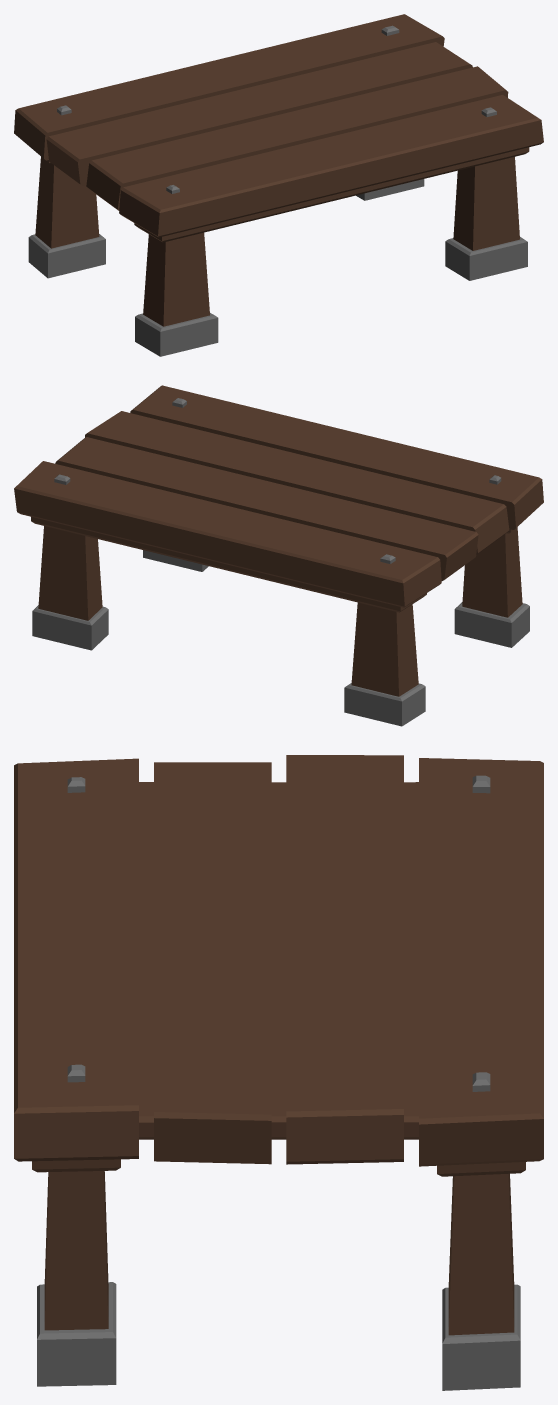
The model's file is Tisch.fbx.
3 renders of one model, top to bottom at view 1: azimuth 30°, elevation 25°; view 2: azimuth 150°, elevation 25°; view 3: azimuth 270°, elevation 25°, orthographic. The views are drawn at different scales.
Parts seen in each view (by area): view 1: Tisch; view 2: Tisch; view 3: Tisch.
Boxes of the visible parts, <box> form: Tisch: <box>14,14,543,356</box>; Tisch: <box>14,385,543,726</box>; Tisch: <box>14,755,543,1390</box>.
Bounding box in the file's own units: 617 × 230 × 377.
